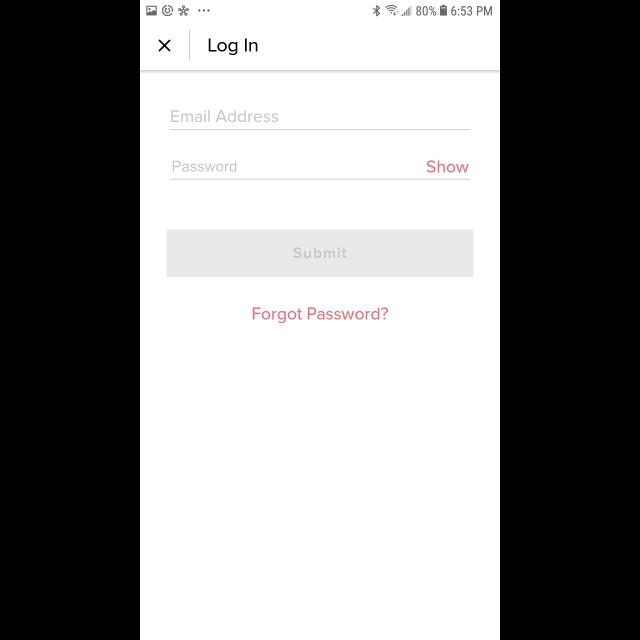icon: (158, 40, 172, 52)
input: (170, 156, 470, 180), (170, 110, 470, 130)
text: (252, 308, 388, 324), (172, 110, 278, 122), (208, 38, 258, 56), (173, 160, 237, 172), (427, 160, 469, 173)
textbutton: (166, 230, 474, 278)
uppertaskbar: (140, 1, 500, 17)
